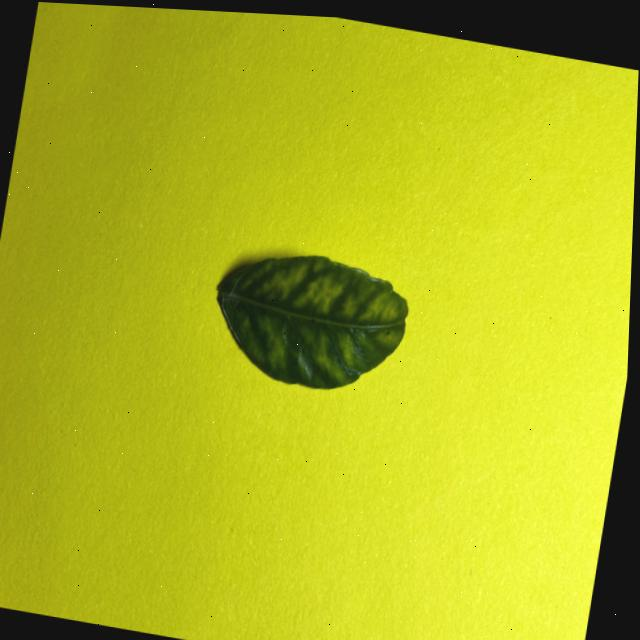greening: (216, 255, 407, 388)
